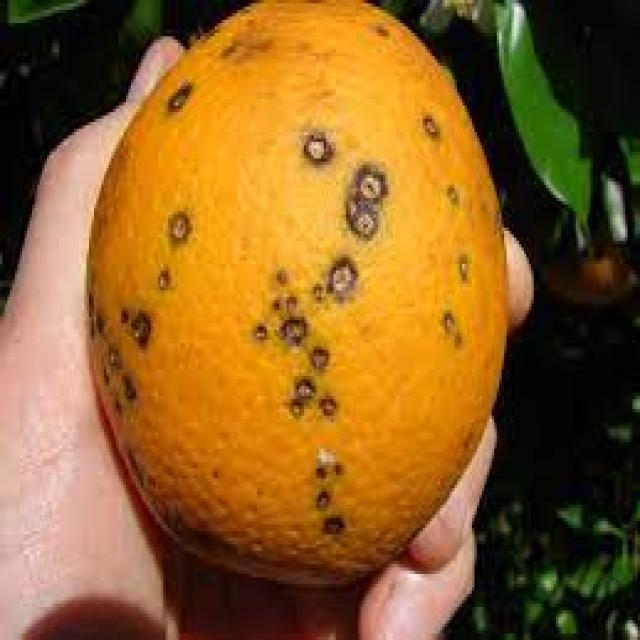black spot: (80, 0, 510, 584)
